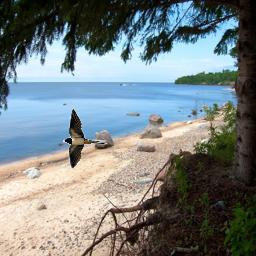Swallow: (63, 108, 108, 170)
